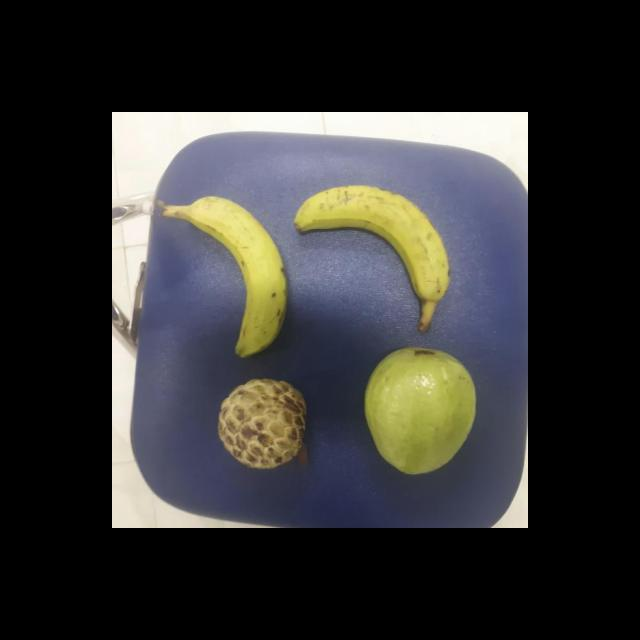Sakya fruit: (216, 373, 308, 473)
banana: (182, 186, 288, 362), (295, 182, 452, 300)
guava: (360, 345, 480, 476)
